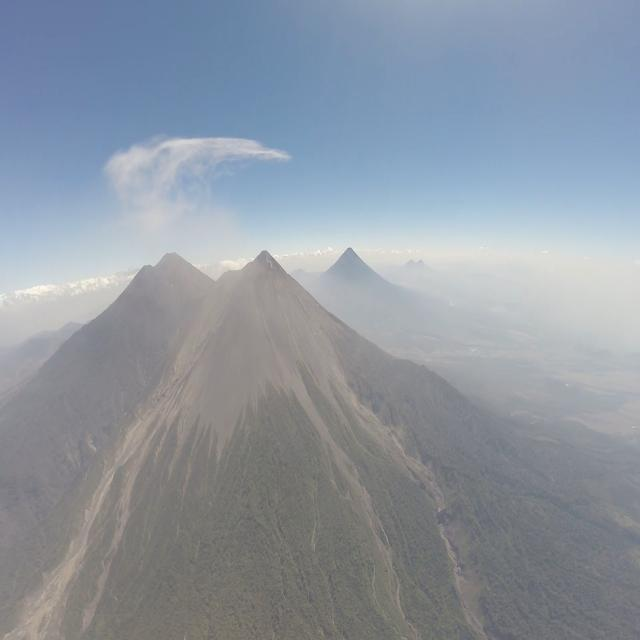Summit: (242, 248, 280, 276)
